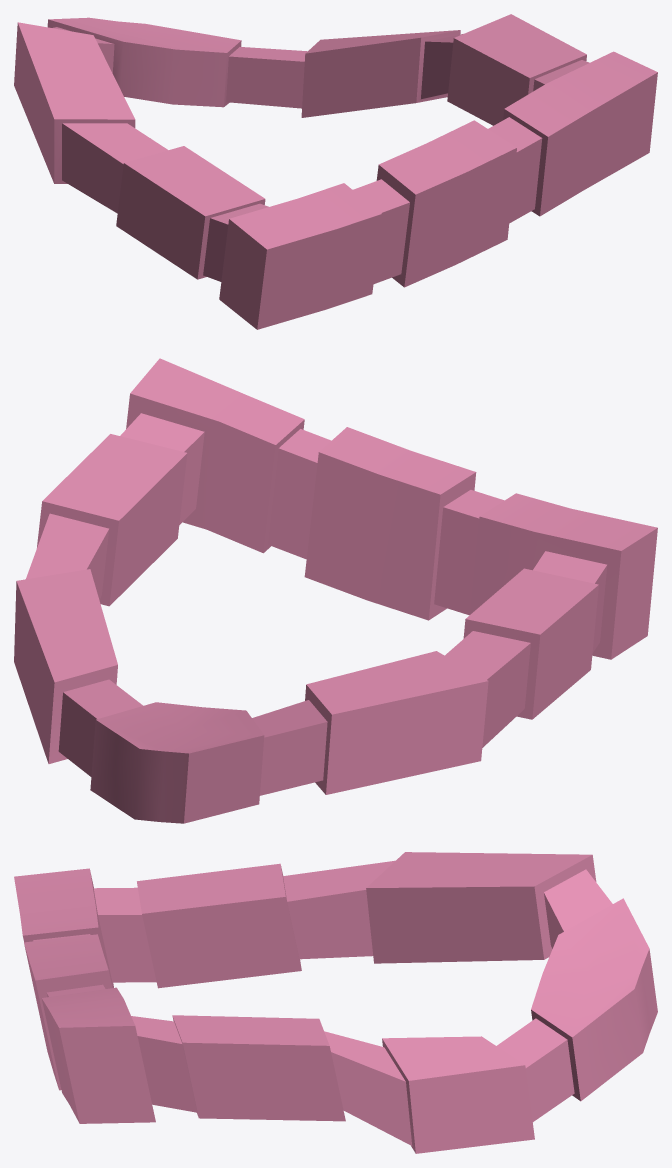
Rendered from WindowRockFrame.fbx.
3 renders of one model, top to bottom at view 1: azimuth 30°, elevation 25°; view 2: azimuth 150°, elevation 25°; view 3: azimuth 270°, elevation 25°, orthographic. The views are drawn at different scales.
Parts seen in each view (by area): view 1: WindowRockFrame.002; view 2: WindowRockFrame.002; view 3: WindowRockFrame.002.
Boxes of the visible parts, bbox=[...] form: WindowRockFrame.002: bbox=[14, 14, 657, 329]; WindowRockFrame.002: bbox=[14, 358, 657, 823]; WindowRockFrame.002: bbox=[14, 852, 657, 1153].
Bounding box in the file's own units: 47.97 × 55.22 × 16.7.
